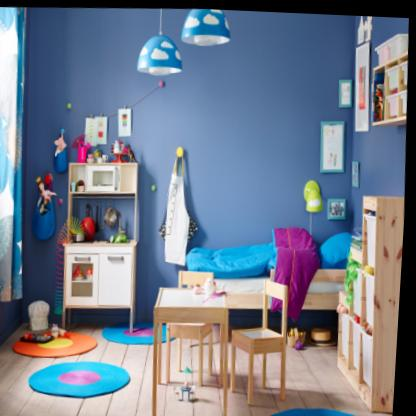Chair: (229, 273, 299, 407)
Table: (149, 281, 240, 416)
